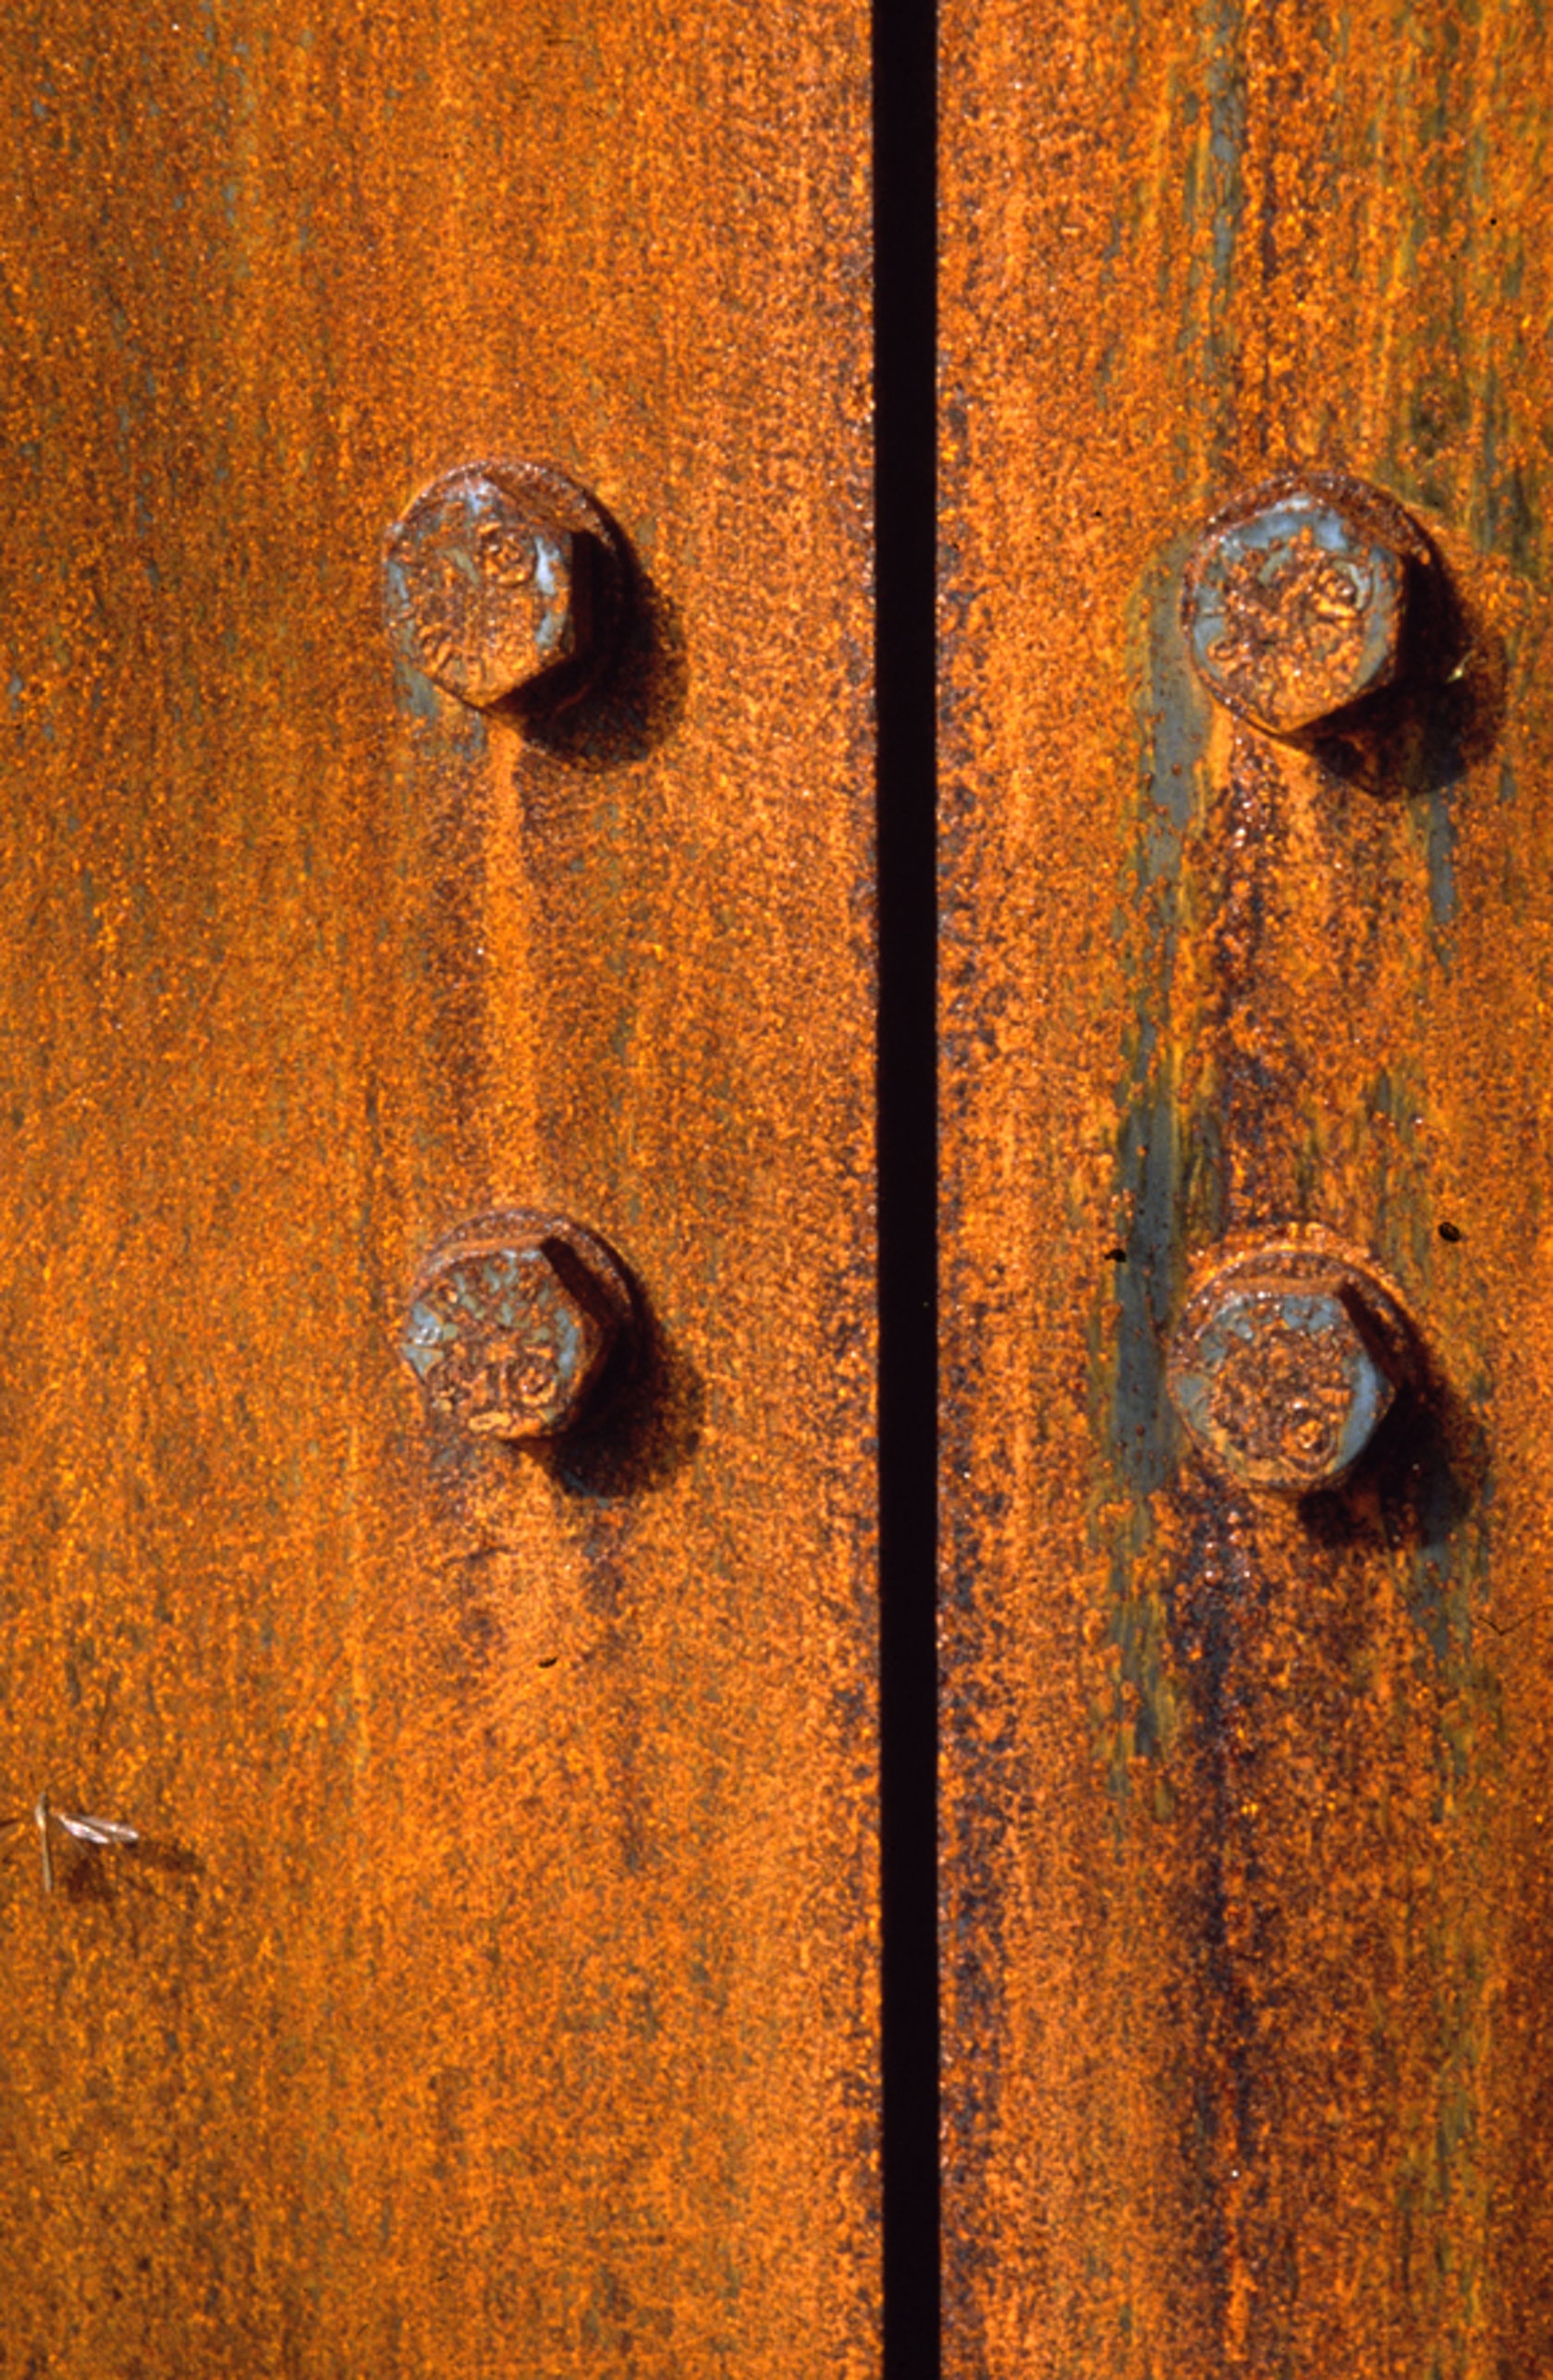bolt_a: (1182, 474, 1433, 751), (378, 456, 618, 725), (1157, 1273, 1409, 1504), (385, 1228, 633, 1448)
